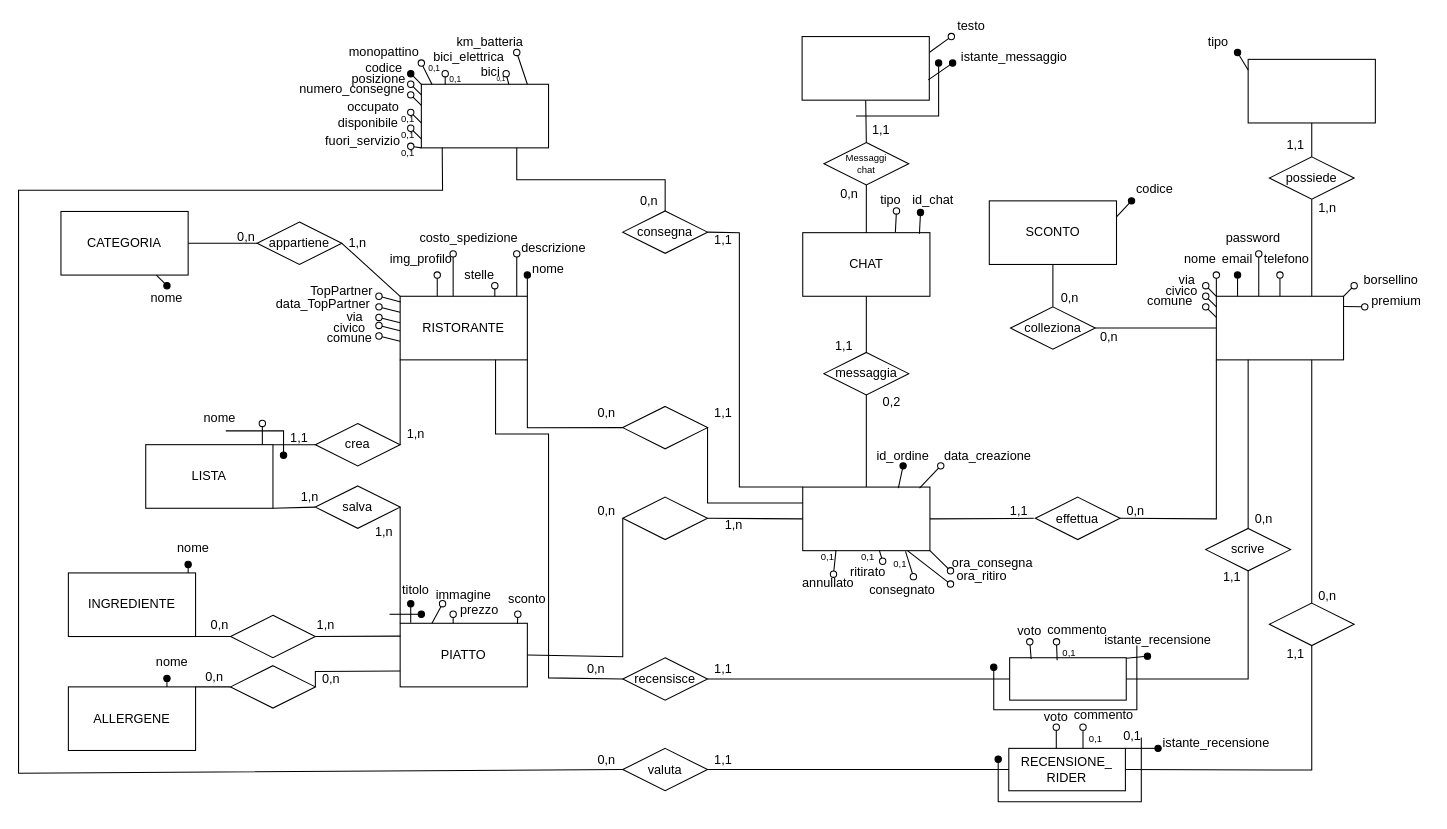
Image size: 1447x829. Some labels were removed from this diagram. The centre of each missing label's shape, as x and y in pixels:
"compila" goes at [1311,624].
"composto" goes at [272,636].
"contiene" goes at [665,518].
"include" goes at [272,686].
"MESSAGGIO" goes at [865,68].
"ORDINE" goes at [866,518].
"PAGAMENTO" goes at [1311,90].
"RECENSIONE_ RISTORANTE" goes at [1067,678].
"riceve" goes at [665,427].
"RIDER" goes at [484,115].
"UTENTE" goes at [1279,327].
